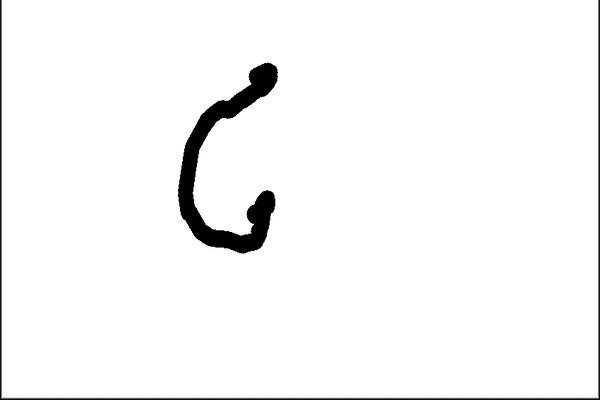C: (174, 59, 287, 256)
